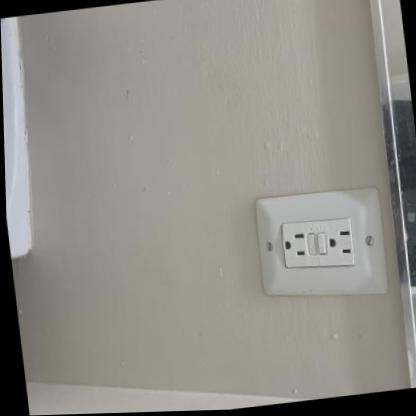OUTLET: (254, 186, 390, 299)
